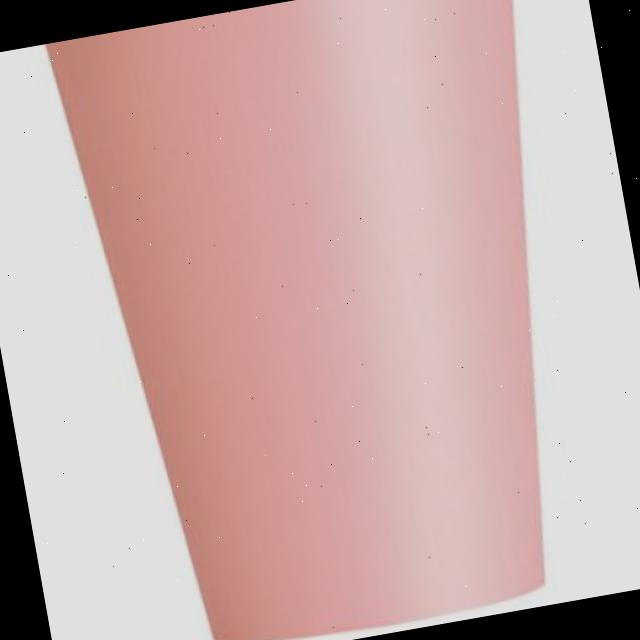trash: (28, 0, 635, 640)
